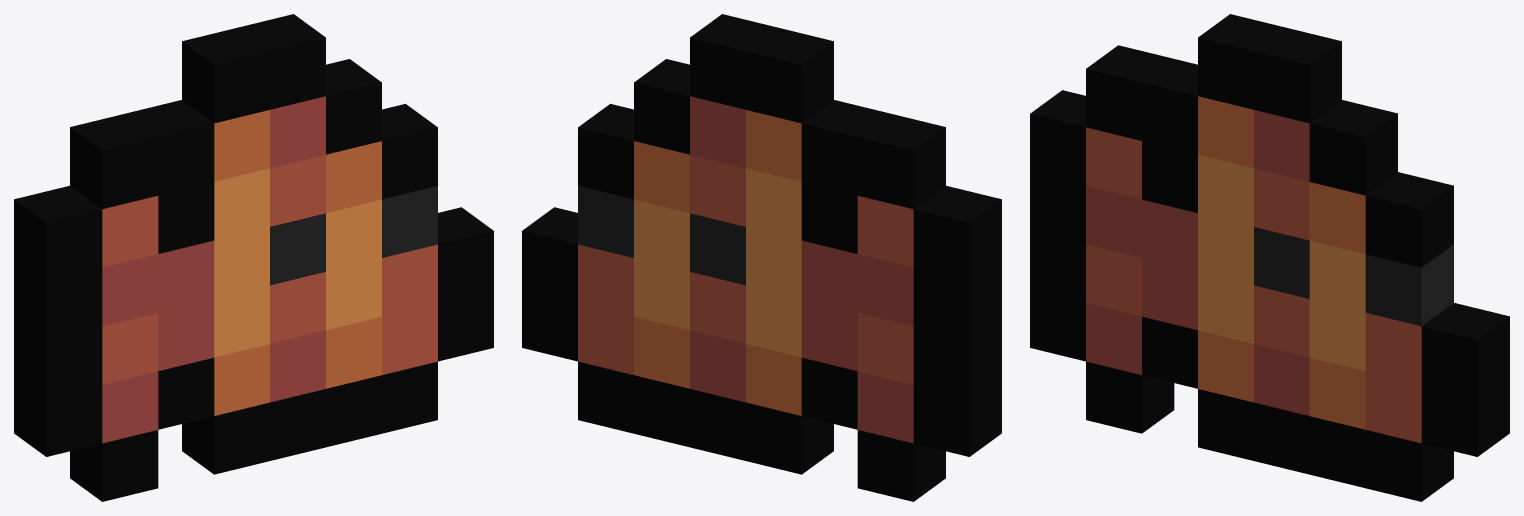
The model's file is Embermark Wrasse.glb.
3 renders of one model, left to right at view 1: azimuth 30°, elevation 25°; view 2: azimuth 150°, elevation 25°; view 3: azimuth 330°, elevation 25°, orthographic.
Visible parts, largest first — view 1: generated(Clone); view 2: generated(Clone); view 3: generated(Clone).
Part boxes in pixels (left/top/right/bottom): generated(Clone): left=14, top=14, right=493, bottom=501; generated(Clone): left=522, top=14, right=1001, bottom=501; generated(Clone): left=1030, top=14, right=1509, bottom=501.
Bounding box in the file's own units: 8 × 7 × 1.
1 material, 1 textured.
